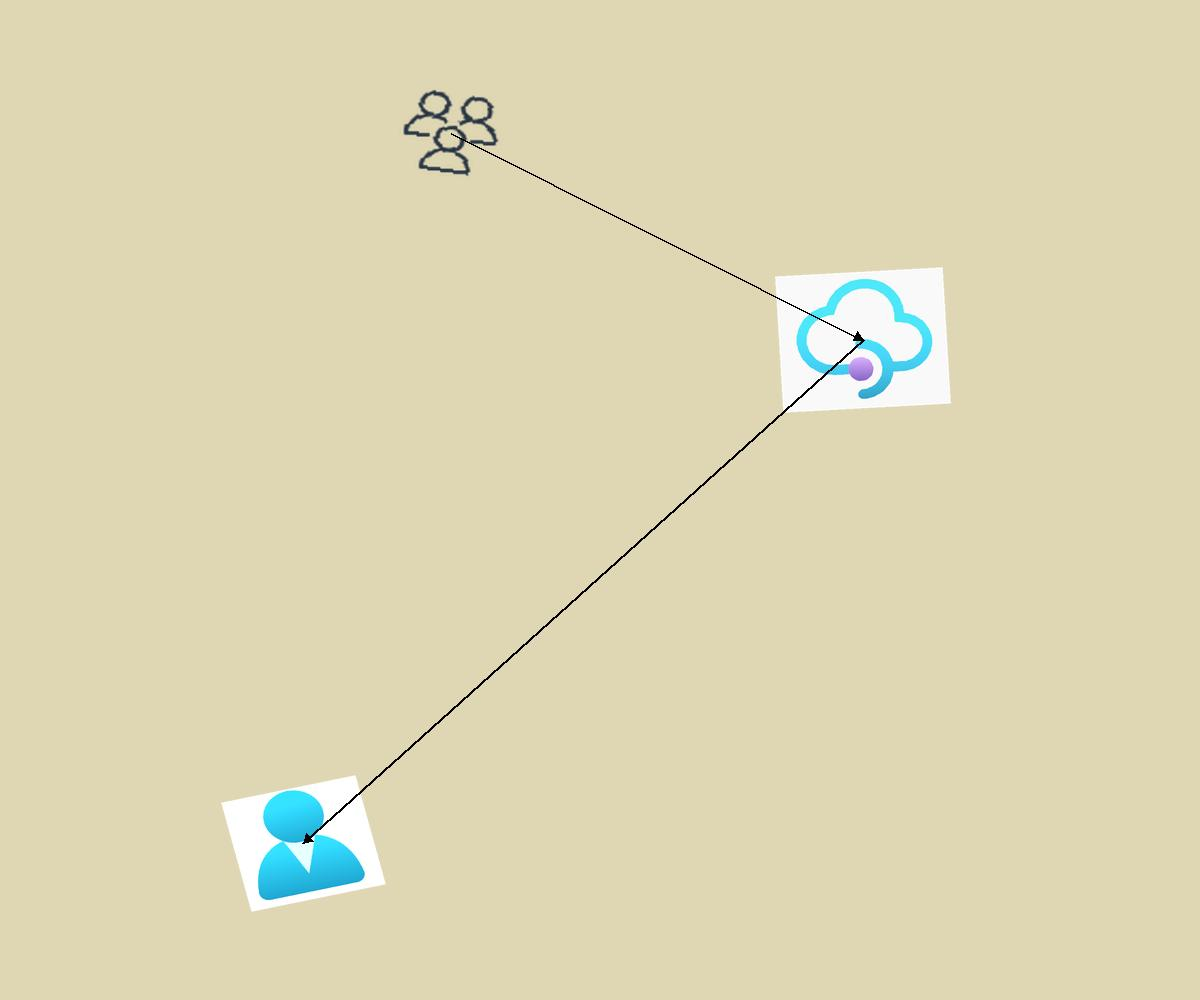AWS-Res_Users: (391, 83, 511, 183)
Azure_api_gateway: (775, 267, 951, 413)
Azure_users: (221, 775, 386, 912)
